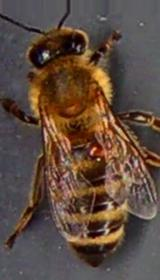varroa_mite: (86, 138, 119, 161)
